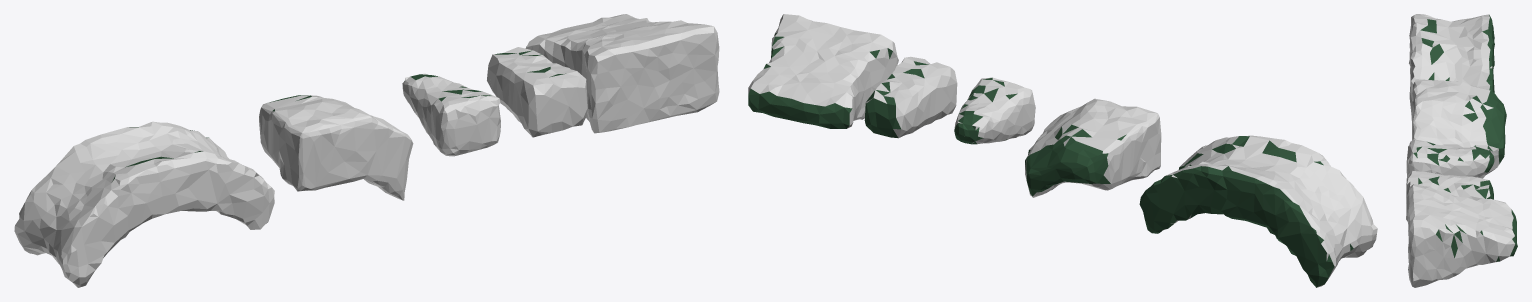
The model's file is Cliffs.fbx.
3 renders of one model, left to right at view 1: azimuth 30°, elevation 25°; view 2: azimuth 150°, elevation 25°; view 3: azimuth 270°, elevation 25°, orthographic. The views are drawn at different scales.
Parts seen in each view (by area): view 1: Cliff 4, Cliff 5, Cliff 3, Cliff 1, Cliff 2; view 2: Cliff 4, Cliff 5, Cliff 3, Cliff 1, Cliff 2; view 3: Cliff 5, Cliff 3, Cliff 4, Cliff 2, Cliff 1.
Boxes of the visible parts, left/top/right/bottom form: Cliff 4: left=14, top=121, right=274, bottom=287; Cliff 5: left=525, top=14, right=719, bottom=133; Cliff 3: left=259, top=95, right=413, bottom=200; Cliff 1: left=487, top=47, right=587, bottom=137; Cliff 2: left=402, top=73, right=500, bottom=156; Cliff 4: left=1139, top=135, right=1377, bottom=287; Cliff 5: left=748, top=14, right=898, bottom=128; Cliff 3: left=1025, top=98, right=1161, bottom=197; Cliff 1: left=864, top=56, right=957, bottom=138; Cliff 2: left=954, top=77, right=1035, bottom=144; Cliff 5: left=1407, top=184, right=1517, bottom=287; Cliff 3: left=1412, top=79, right=1506, bottom=178; Cliff 4: left=1409, top=14, right=1494, bottom=120; Cliff 2: left=1406, top=139, right=1494, bottom=177; Cliff 1: left=1406, top=171, right=1493, bottom=221.
Size of the model in its own units: 12889 by 2110 by 2469.
